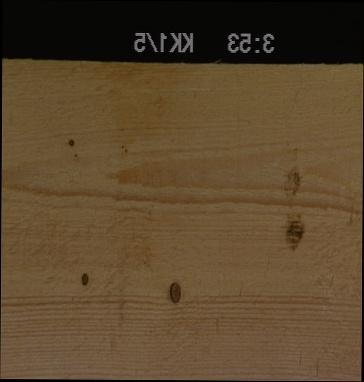dry_knot: (168, 279, 181, 303)
small_knot: (79, 269, 89, 285), (67, 136, 75, 147)
